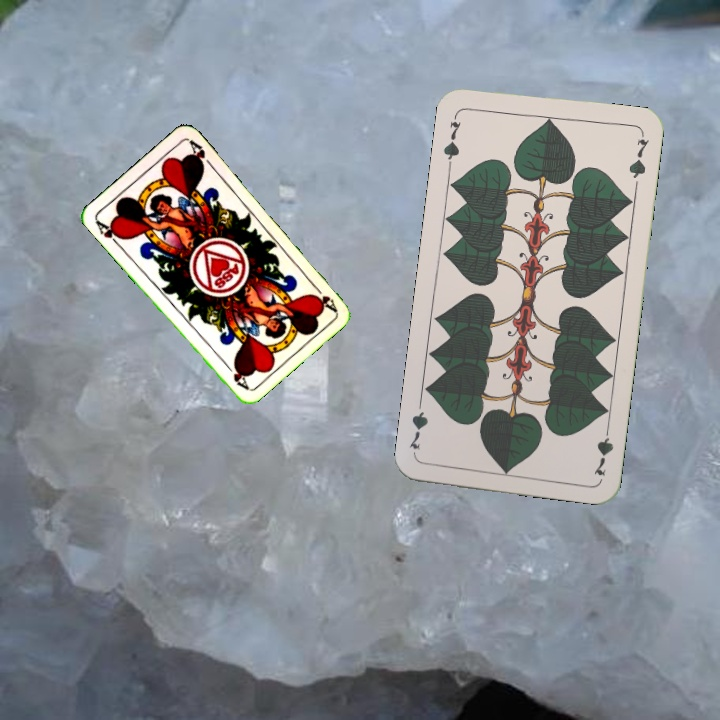G7: (589, 420, 616, 479), (439, 109, 464, 168)
HA: (91, 216, 126, 250), (307, 279, 339, 314)
